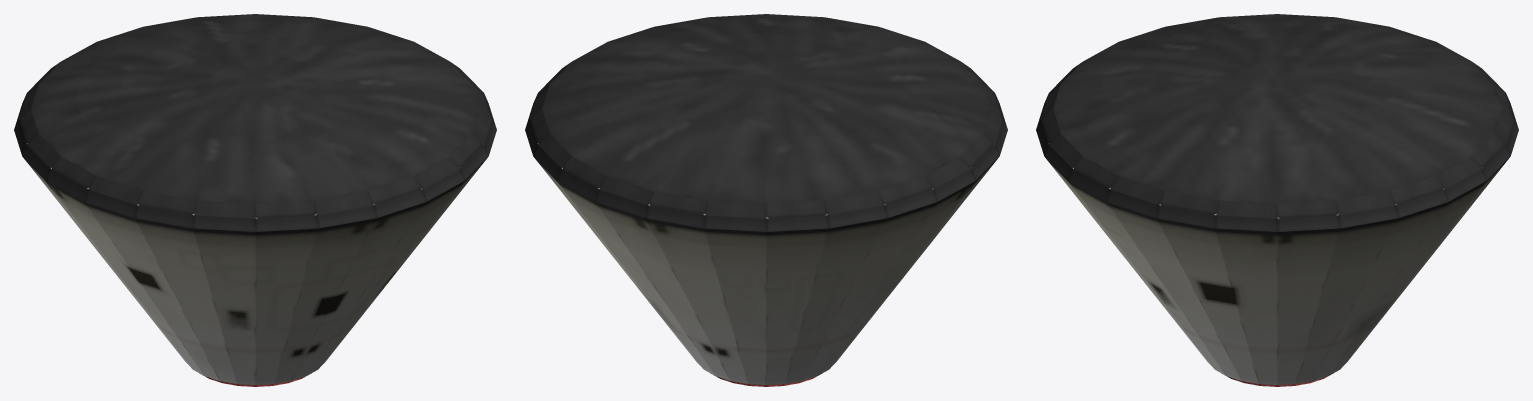
The model's file is earth_landing_system.obj.
3 renders of one model, left to right at view 1: azimuth 30°, elevation 25°; view 2: azimuth 150°, elevation 25°; view 3: azimuth 270°, elevation 25°, orthographic.
Parts seen in each view (by area): view 1: Apollo; view 2: Apollo; view 3: Apollo.
Part boxes in pixels (x1,y1,x2,y2): Apollo: (14,14,496,386); Apollo: (525,14,1007,386); Apollo: (1036,14,1518,386).
Size of the model in its own units: 3.9 by 2.48 by 3.9.
